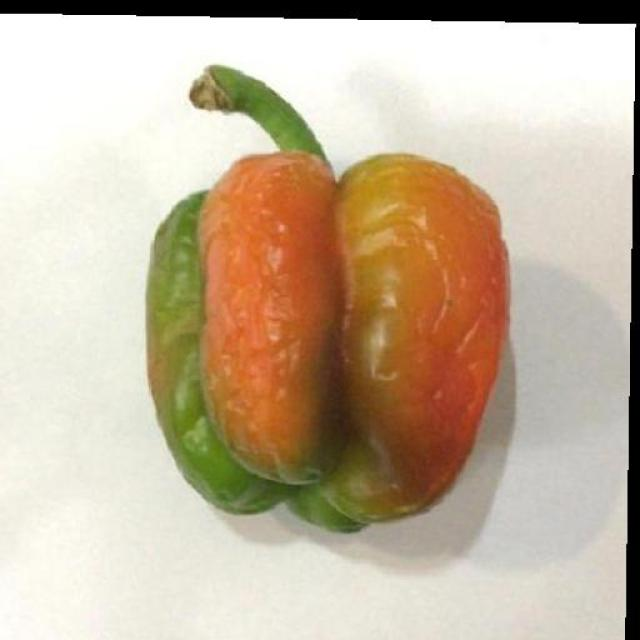Stale_Capsicum: (128, 42, 519, 522)
